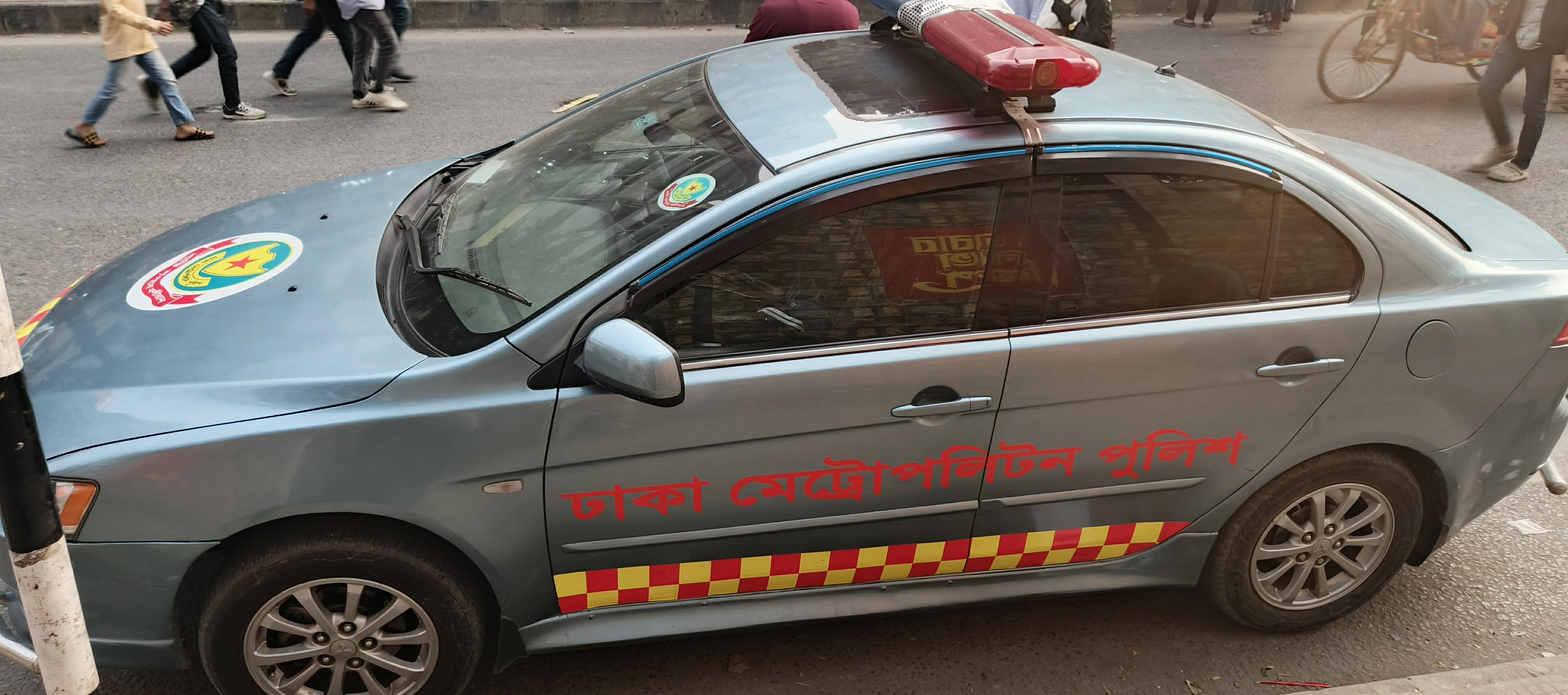Police cars: (16, 8, 1558, 682)
auto-ricksaw: (1299, 5, 1568, 130)
